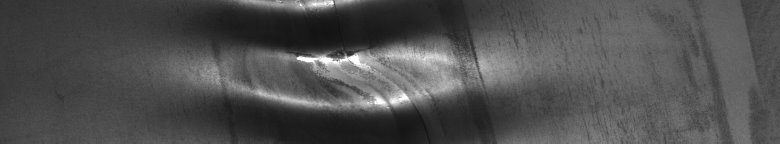ke: (233, 4, 482, 116)
